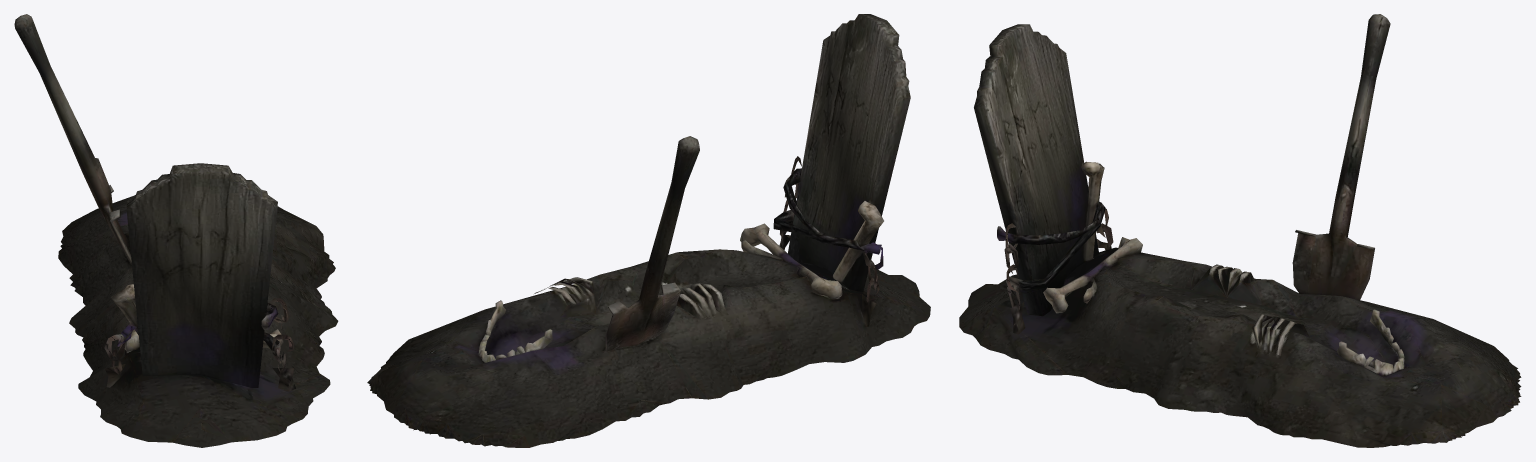
Rendered from prop_node_burial_mound.glb.
The picture shows the model from 3 angles, left to right: view 1: azimuth 30°, elevation 25°; view 2: azimuth 150°, elevation 25°; view 3: azimuth 270°, elevation 25°; orthographic projection. The views are drawn at different scales.
Visible parts, largest first — view 1: tripo_node_da4909e1-220e-4be2-bc88-014121a6408d; view 2: tripo_node_da4909e1-220e-4be2-bc88-014121a6408d; view 3: tripo_node_da4909e1-220e-4be2-bc88-014121a6408d.
Part boxes in pixels (<box>): tripo_node_da4909e1-220e-4be2-bc88-014121a6408d: <box>14,14,338,447</box>; tripo_node_da4909e1-220e-4be2-bc88-014121a6408d: <box>367,14,930,447</box>; tripo_node_da4909e1-220e-4be2-bc88-014121a6408d: <box>959,14,1521,447</box>.
Size of the model in its own units: 0.748 by 0.5644 by 0.998.
1 material, 1 textured.
